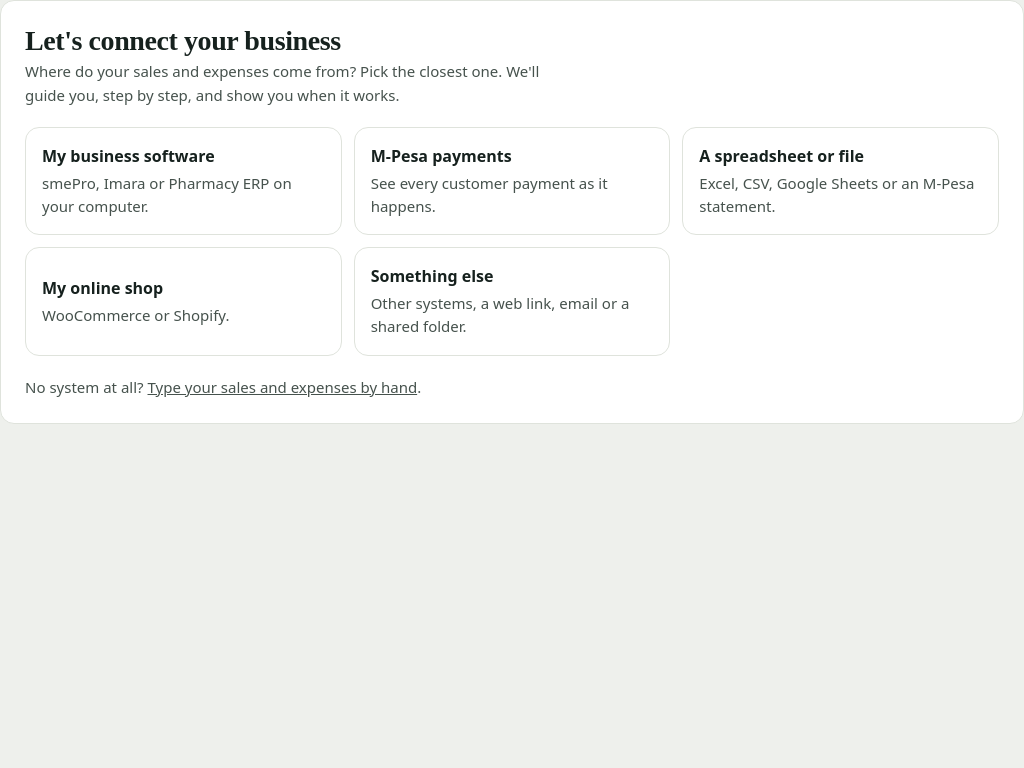
Test case: Connect hub › keeps the technical connectors under 'Something else', and says the two kinds of helper app apart
The width and height of the screenshot is (1024, 768).
Click the button "Something else" at (512, 301), box [354, 247, 670, 356]
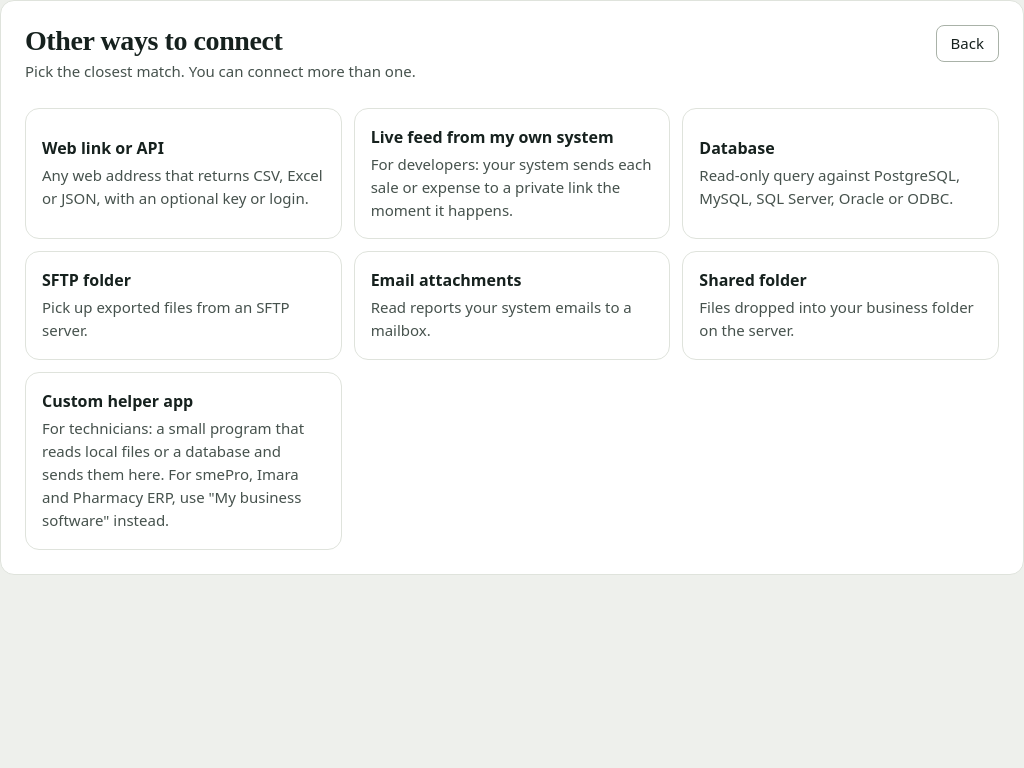
Now the heading "Other ways to connect" is shown, box [25, 25, 282, 56]
Now the button "Live feed from my own system" is shown, box [354, 108, 670, 239]
Now the button "Database" is shown, box [682, 108, 999, 239]
